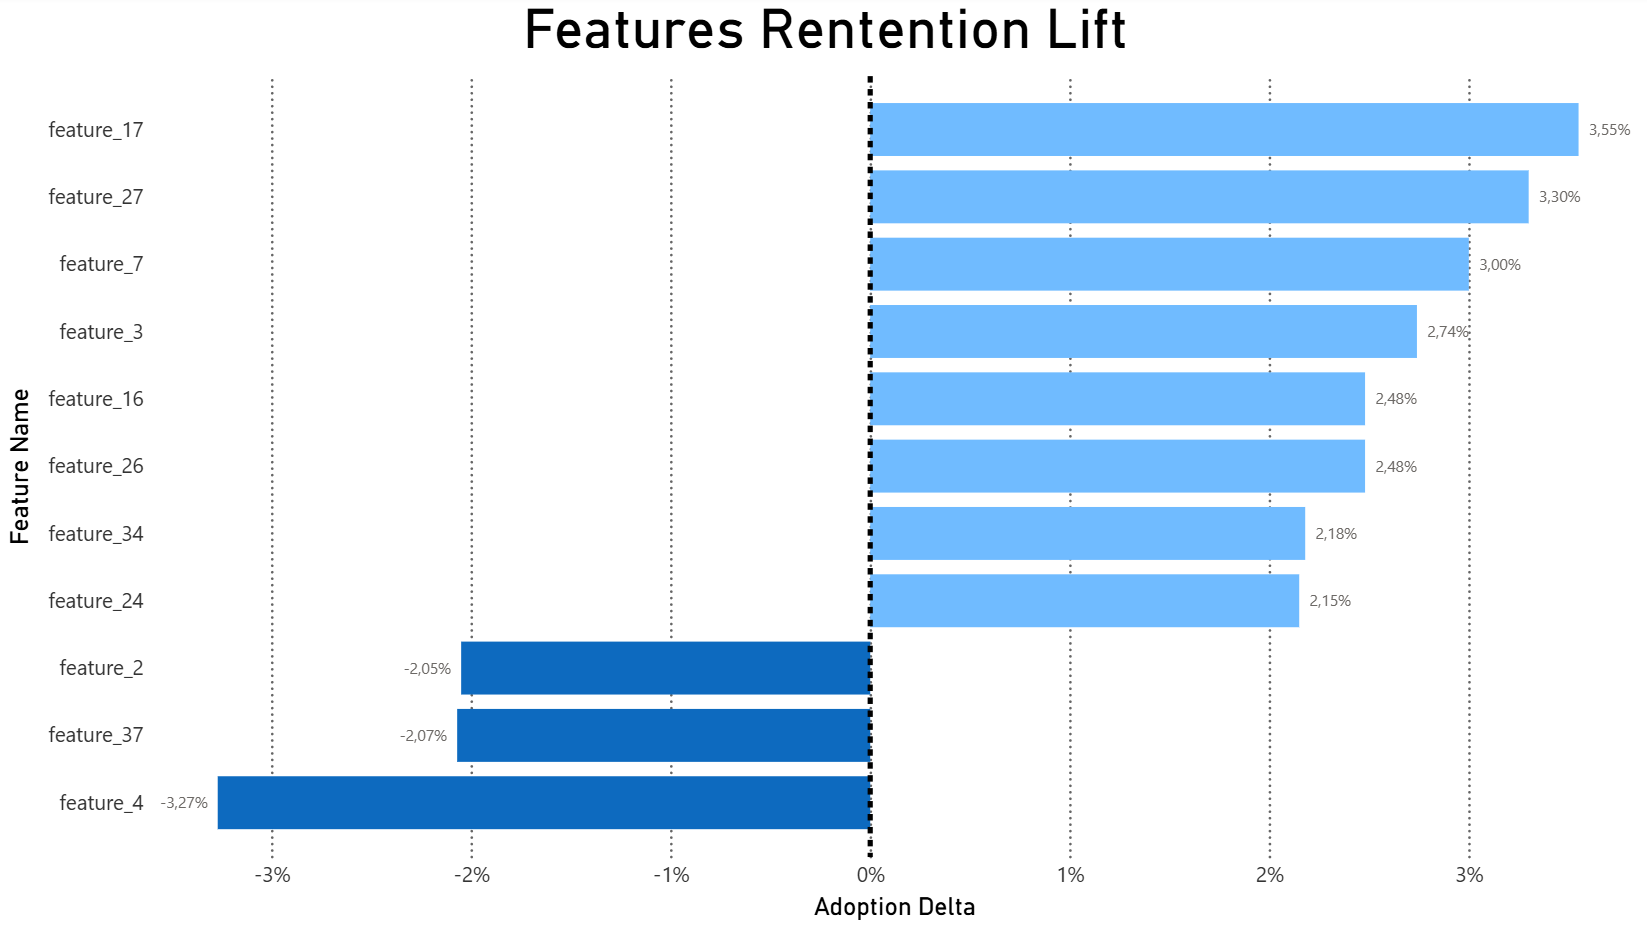

The dashboard page shown, as its layout file describes it:
{"tool":"powerbi","page":{"name":"Features Driving Retention","canvas":[1280,720],"ordinal":4},"visuals":[{"type":"barChart","title":"Features Rentention Lift","fields":{"Category":["feature_retention_delta_active_vs_churn.feature_name"],"Y":["Sum(feature_retention_delta_active_vs_churn.retention_lift)"]},"box":[0,0,1280.4,719.6],"z":0}]}

Visuals, with their boxes in screenshot pixels (x1, y1, x2, y2), scaled from the page's 1280x720 canvas onto the 1647x925 screenshot:
"Features Rentention Lift" barChart: (0, 0, 1646, 924)
